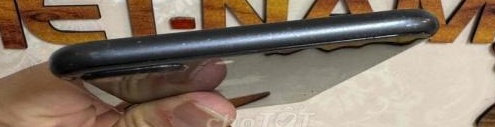scratch: (57, 15, 435, 73)
